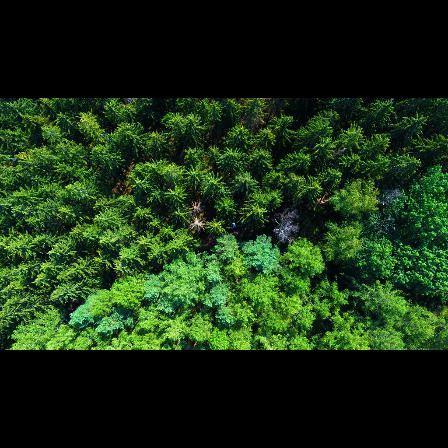Dead: (271, 210, 298, 242), (376, 189, 402, 208), (187, 217, 207, 236), (189, 197, 203, 216)
